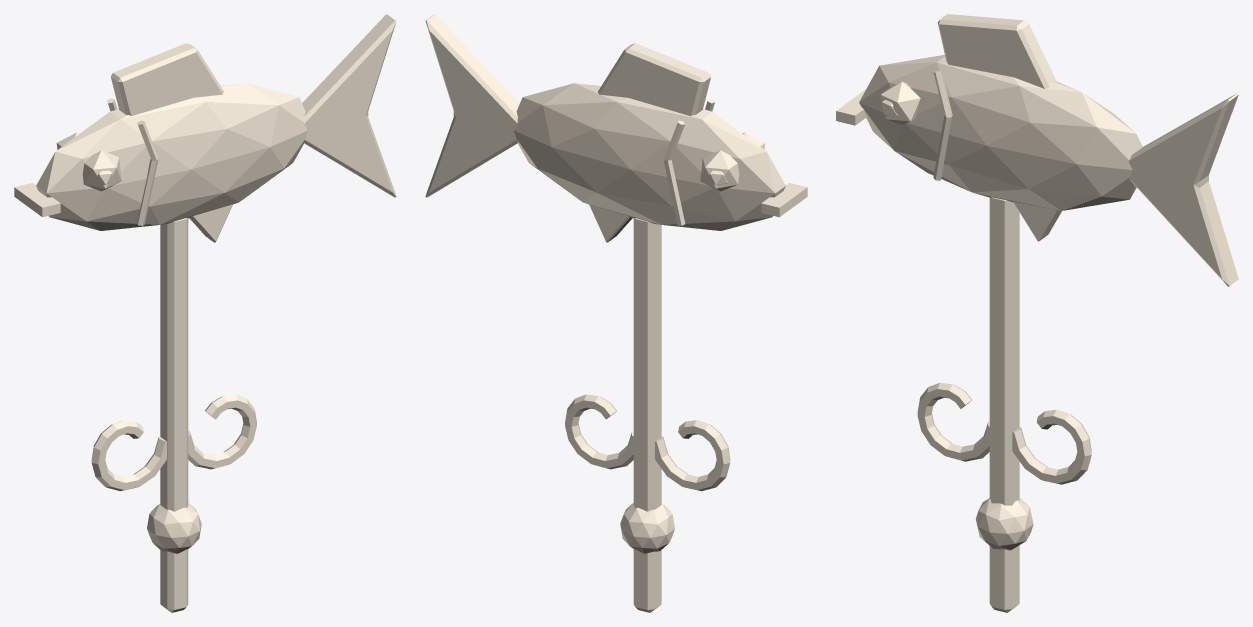
The model's file is SM_VK_Emblem_Ridge_Fish.fbx.
3 views of the same model, side by side, from view 1: azimuth 30°, elevation 25°; view 2: azimuth 150°, elevation 25°; view 3: azimuth 330°, elevation 25° (orthographic). The views are drawn at different scales.
Visible parts, largest first — view 1: SM_VK_Emblem_Ridge_Fish.001; view 2: SM_VK_Emblem_Ridge_Fish.001; view 3: SM_VK_Emblem_Ridge_Fish.001.
Part boxes in pixels (x1=…): SM_VK_Emblem_Ridge_Fish.001: x1=14, y1=14, x2=396, y2=612; SM_VK_Emblem_Ridge_Fish.001: x1=425, y1=14, x2=807, y2=612; SM_VK_Emblem_Ridge_Fish.001: x1=836, y1=14, x2=1238, y2=612.
Size of the model in its own units: 1.2 by 1.76 by 0.2595.
